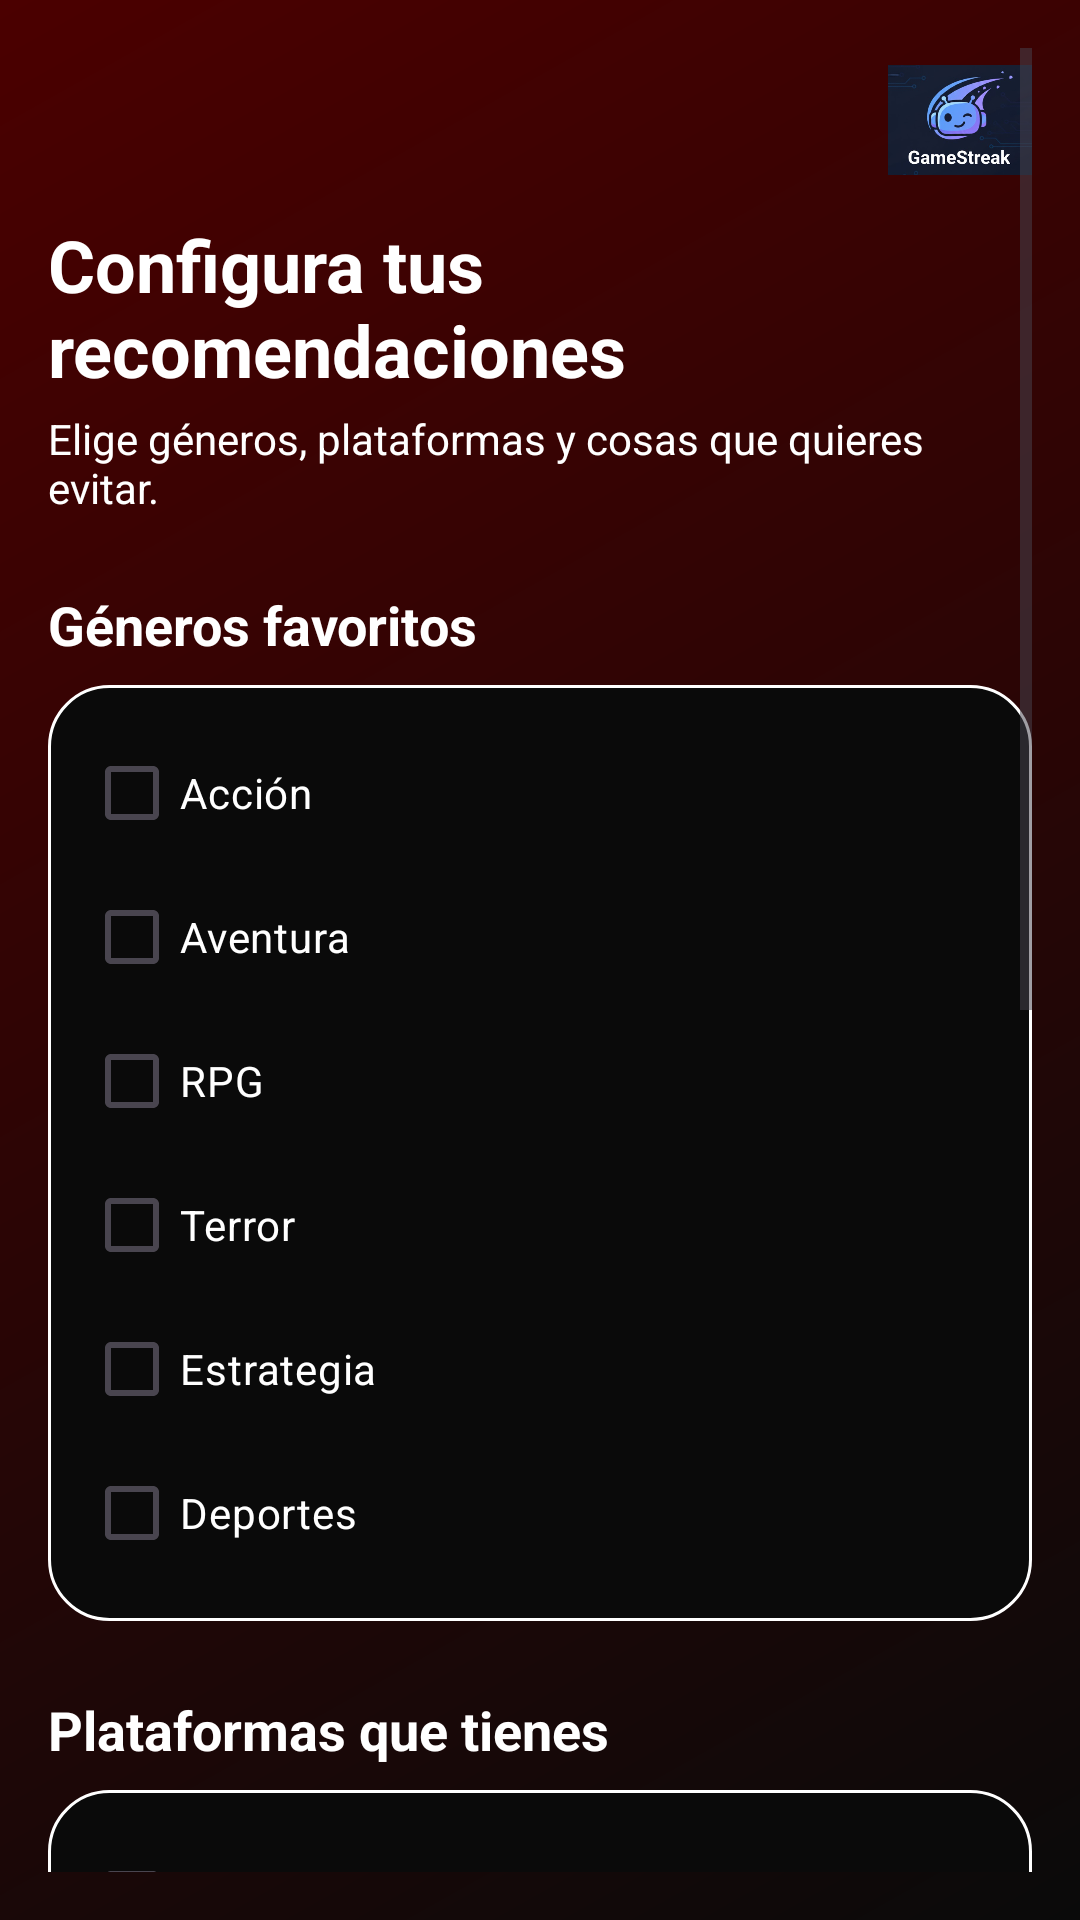

Icon bounding boxes for this 1080*1920 phone screenshot, format (x1, y1, x2, y2):
loguito: (888, 48, 1032, 192)
